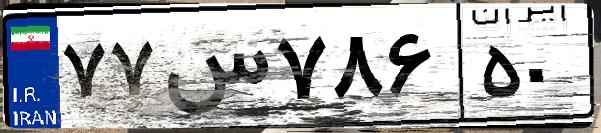0: (525, 38, 570, 115)
5: (475, 38, 525, 113)
6: (385, 28, 445, 110)
7: (270, 28, 330, 110), (57, 26, 110, 100), (110, 28, 158, 98)
8: (330, 28, 385, 110)
س: (158, 20, 270, 120)
